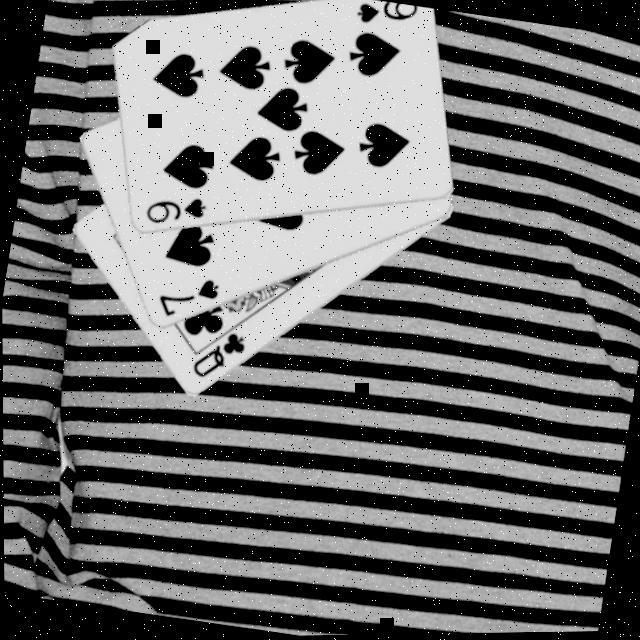7S: (150, 267, 221, 327)
9S: (138, 185, 209, 232), (350, 0, 419, 34)
QC: (185, 321, 248, 386)
